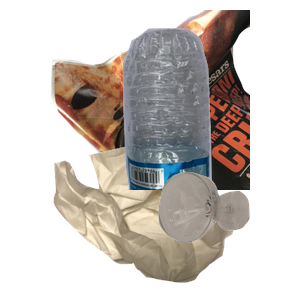glass: (156, 170, 300, 300)
paper: (49, 10, 289, 190)
plastic: (111, 26, 300, 206)
trash: (51, 142, 278, 300)
